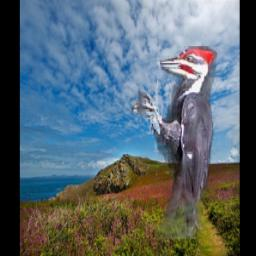Woodpecker: (130, 47, 217, 240)
